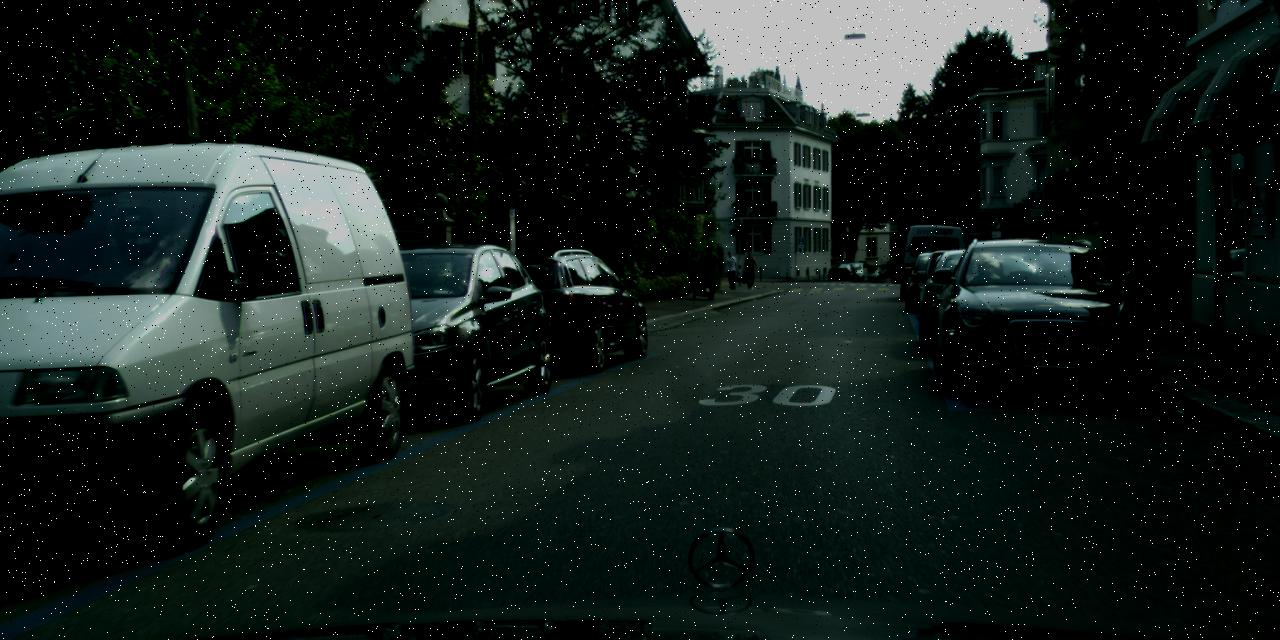ped: (701, 244, 721, 297), (685, 247, 704, 294), (741, 249, 757, 289), (724, 251, 738, 288)
